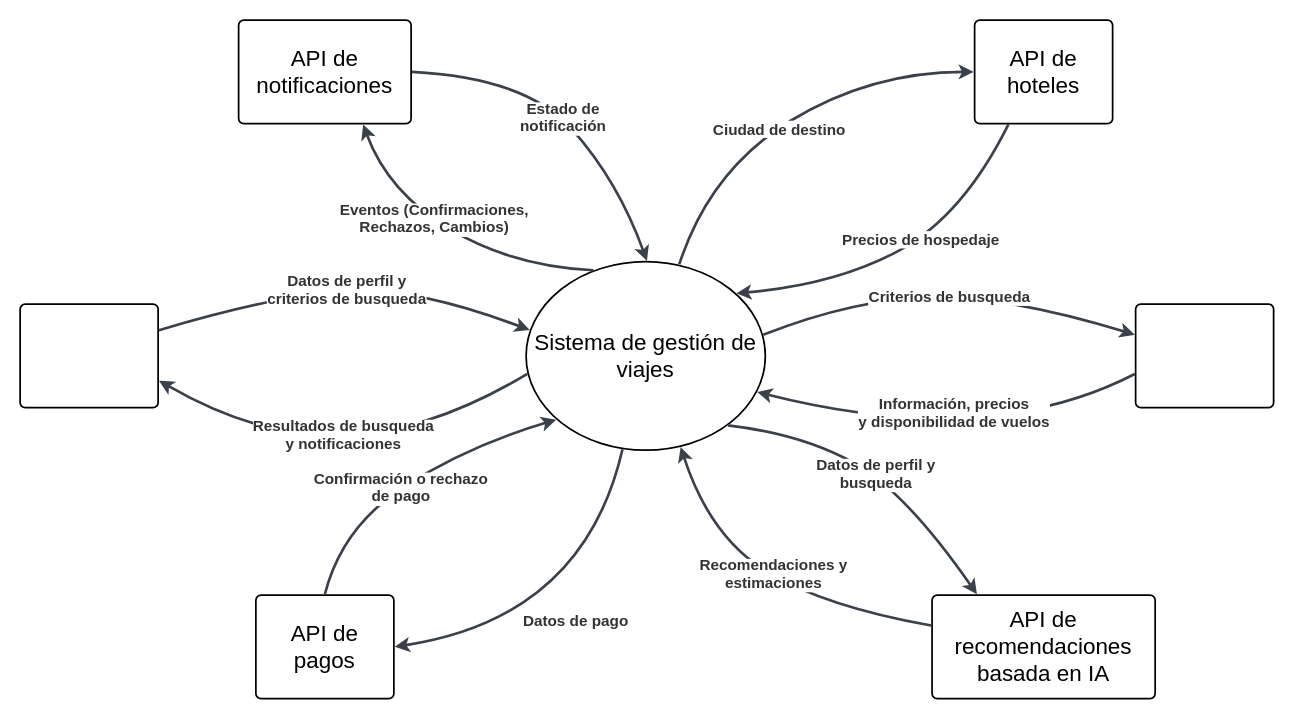
The diagram is 1295 pixels wide and 720 high, and some of its shapes have lost their labels. The centre of each missing label's shape, as x and y in pixels:
"API de vuelos" belongs at (x=1204, y=355).
"Viajero" belongs at (x=88, y=355).
